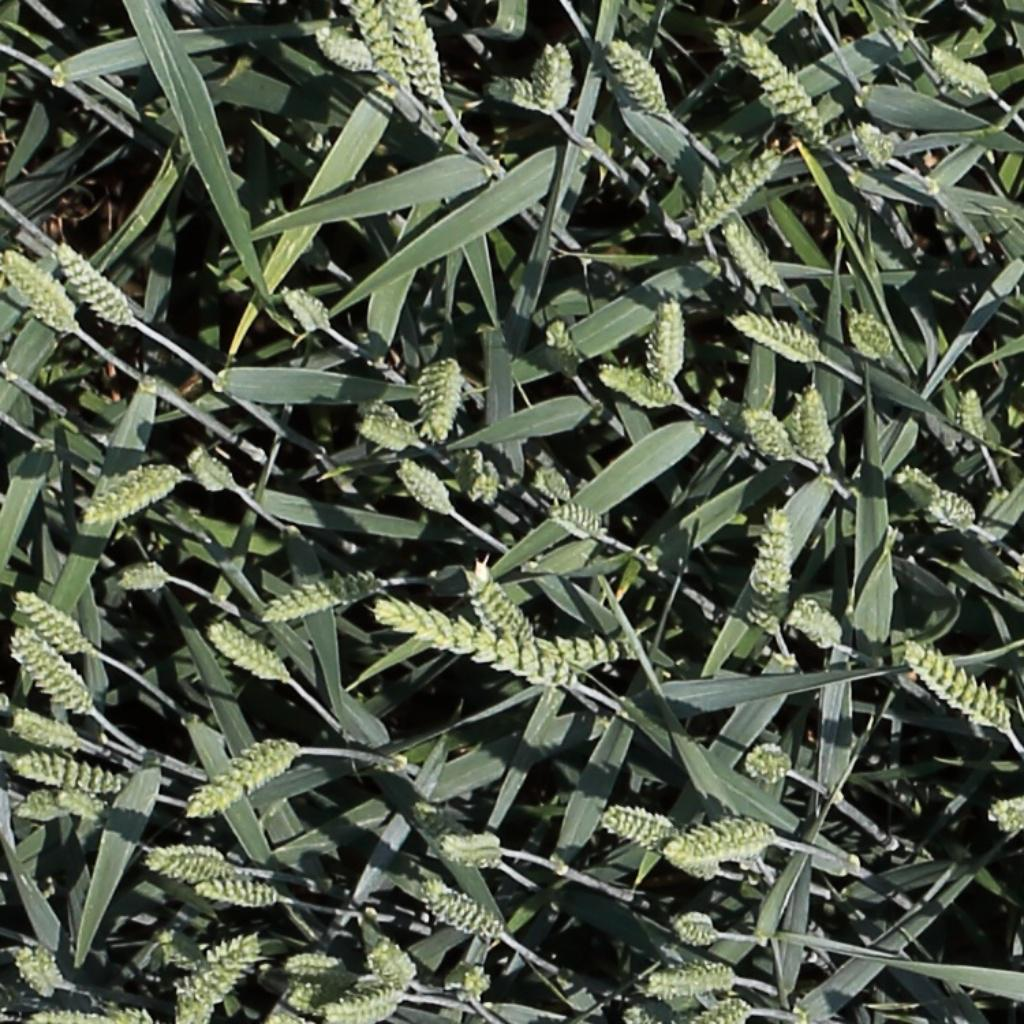0-0: (362, 601, 581, 683), (734, 28, 831, 146), (903, 640, 1010, 730), (185, 744, 297, 825), (689, 143, 782, 234), (660, 807, 778, 873), (9, 625, 92, 718), (51, 238, 135, 326), (173, 935, 256, 1022), (393, 803, 507, 865), (0, 247, 76, 329), (268, 974, 416, 1015), (465, 559, 533, 647), (607, 34, 673, 120), (350, 1, 413, 88), (414, 350, 471, 446), (391, 0, 445, 101), (722, 215, 791, 294), (181, 871, 294, 917), (86, 466, 180, 521), (895, 466, 977, 529), (210, 622, 290, 684), (13, 591, 90, 655), (638, 960, 742, 1005), (423, 882, 503, 939), (139, 834, 238, 880), (755, 506, 790, 636), (592, 796, 677, 847), (264, 580, 375, 619), (735, 312, 824, 359), (12, 757, 124, 793), (643, 290, 684, 386), (395, 456, 457, 517), (343, 402, 409, 459), (742, 404, 800, 462), (600, 365, 684, 405), (9, 940, 60, 1003), (370, 932, 416, 996), (931, 45, 993, 92), (847, 307, 899, 363), (546, 311, 585, 385), (802, 379, 834, 468), (279, 282, 333, 334), (789, 600, 846, 649), (278, 946, 352, 981), (185, 443, 237, 492), (854, 114, 899, 169), (666, 910, 726, 951), (9, 714, 80, 748), (17, 794, 105, 821), (324, 992, 405, 1021), (488, 79, 561, 111), (536, 39, 567, 114), (981, 789, 1024, 839), (445, 829, 506, 864), (318, 32, 376, 68), (610, 993, 676, 1024), (959, 379, 989, 447), (467, 454, 502, 511), (536, 643, 629, 663), (533, 464, 577, 505), (117, 562, 172, 594), (551, 506, 606, 537), (746, 748, 790, 783), (461, 961, 491, 1007), (697, 999, 752, 1024), (263, 1005, 321, 1024), (0, 678, 12, 714), (0, 989, 15, 1004)
